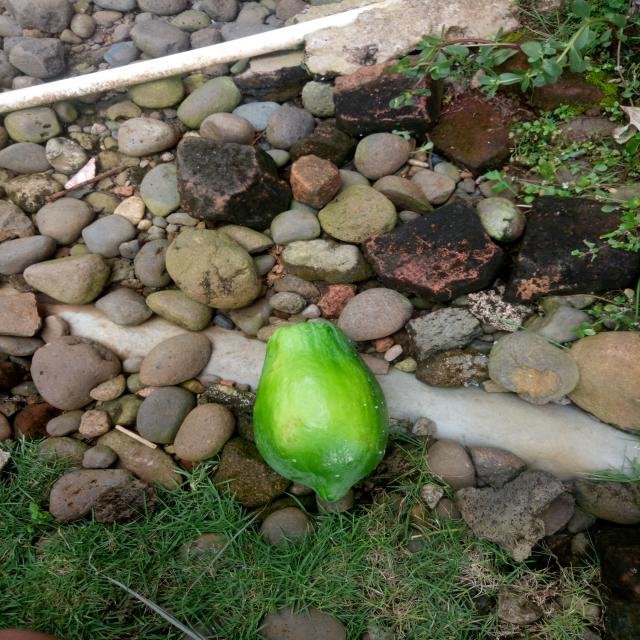Pepaya unrippen: (245, 309, 396, 502)
